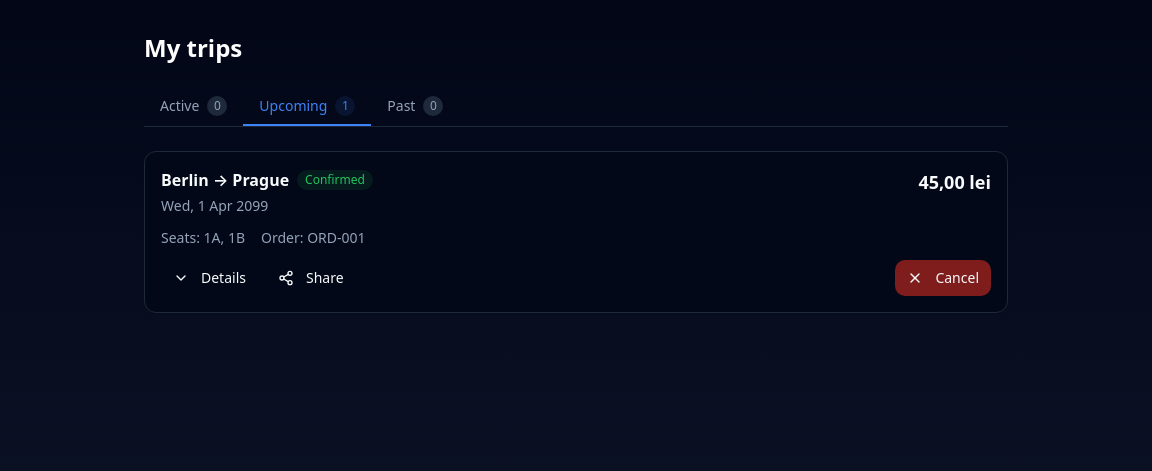
MyTripsPage › expandable detail › collapses detail section when clicked again
Check: the heading "Berlin → Prague" is shown, box [161,168,289,192]
Click the button with aria-label "Expand details" at (210, 278), box [161,260,258,296]
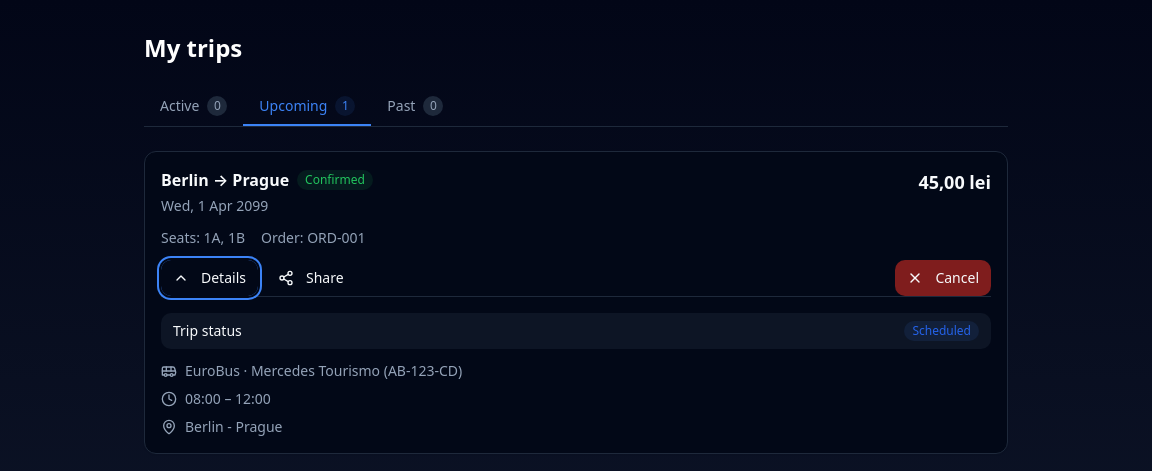
Check: the text "EuroBus · Mercedes Tourismo (AB-123-CD)" is shown, box [185,361,462,381]
Click the button with aria-label "Collapse details" at (210, 278), box [161,260,258,296]
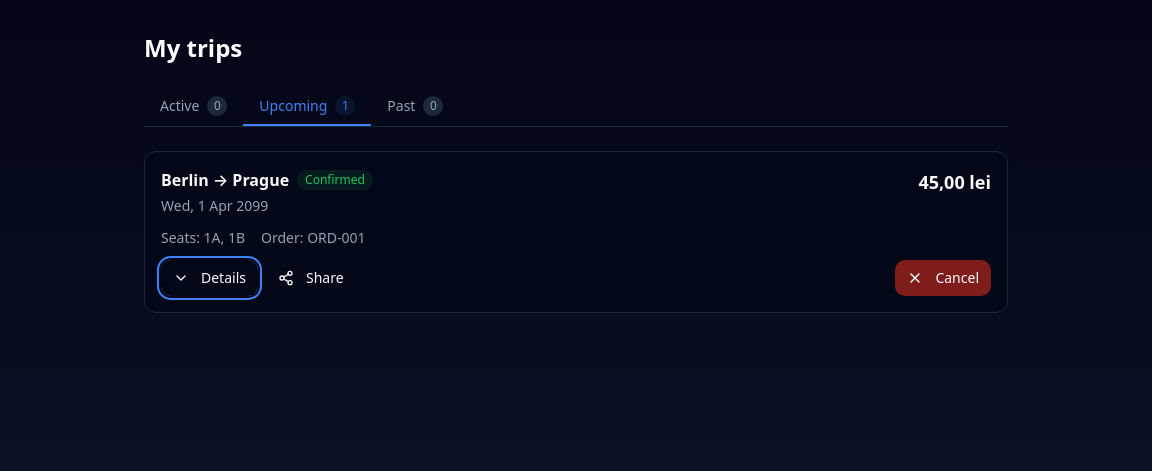
Check: the text "Mercedes Tourismo" is gone
